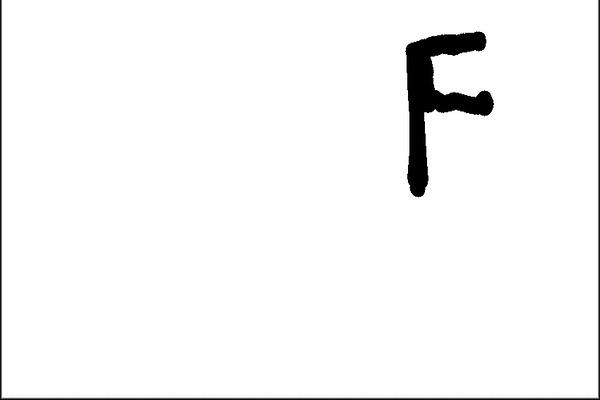F: (397, 28, 496, 202)
